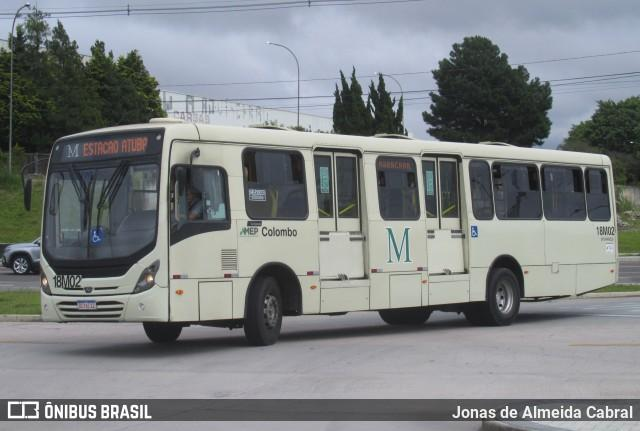ESTACAO ATUBA: (79, 135, 154, 159)
